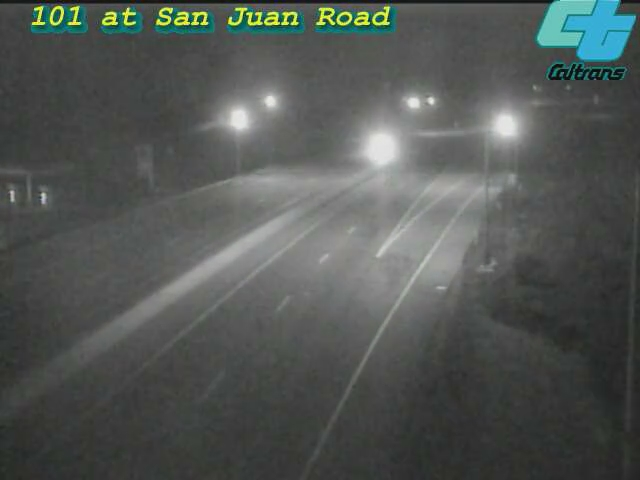vehicle: (350, 123, 400, 173), (471, 102, 521, 152)
